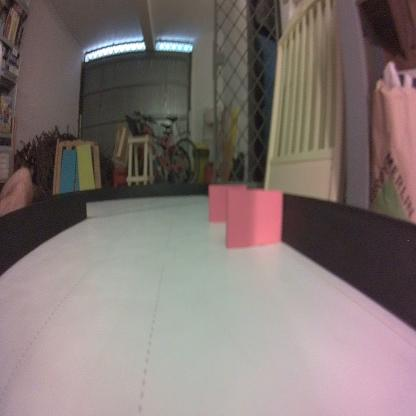magenta: (226, 185, 283, 255), (208, 183, 247, 226)
